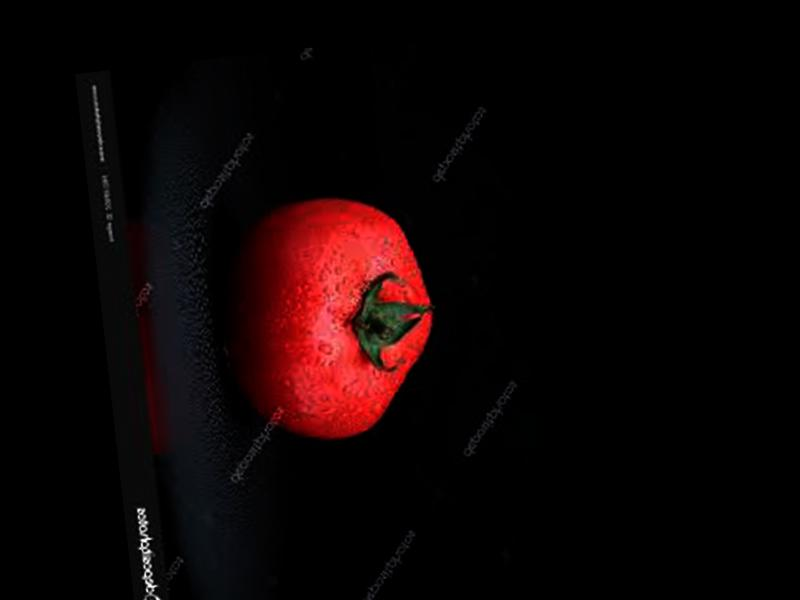Tomato: (211, 185, 448, 451)
